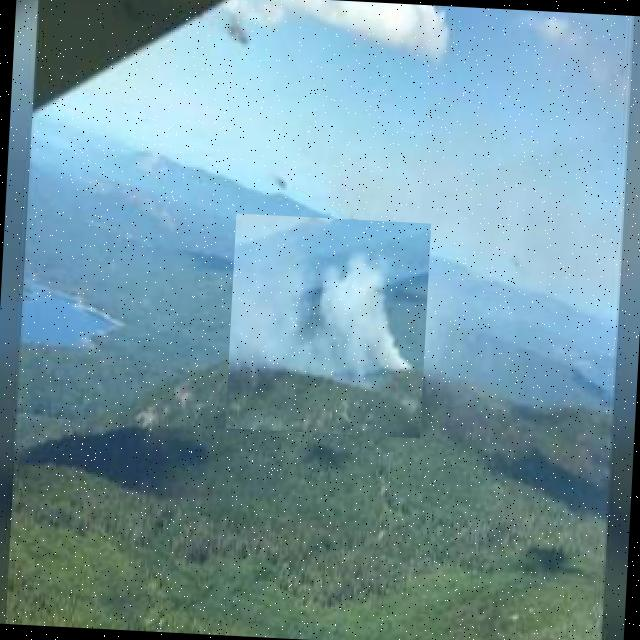fire: (225, 214, 431, 438)
